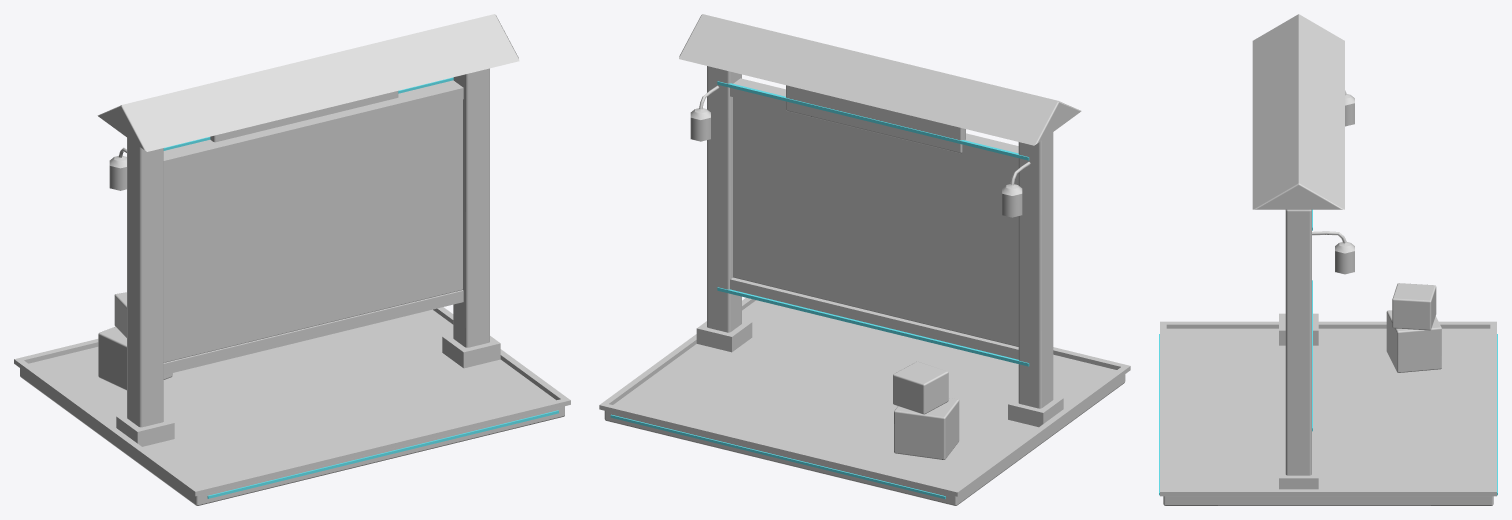
Rendered from QuestBoard.glb.
The picture shows the model from 3 angles, left to right: view 1: azimuth 30°, elevation 25°; view 2: azimuth 150°, elevation 25°; view 3: azimuth 270°, elevation 25°; orthographic projection. The views are drawn at different scales.
Parts seen in each view (by area): view 1: Body, Glow; view 2: Body, Glow; view 3: Body, Glow.
Boxes of the visible parts, <box> form: Body: <box>14,14,570,505</box>; Glow: <box>163,77,558,498</box>; Body: <box>599,14,1130,505</box>; Glow: <box>610,81,1029,499</box>; Body: <box>1160,14,1496,505</box>; Glow: <box>1159,209,1497,495</box>.
Size of the model in its own units: 12.2 by 10.83 by 10.26.
